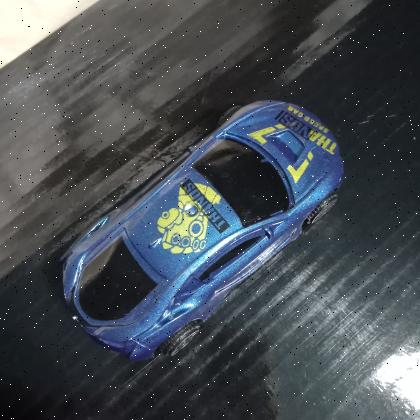Car: (59, 101, 344, 365)
